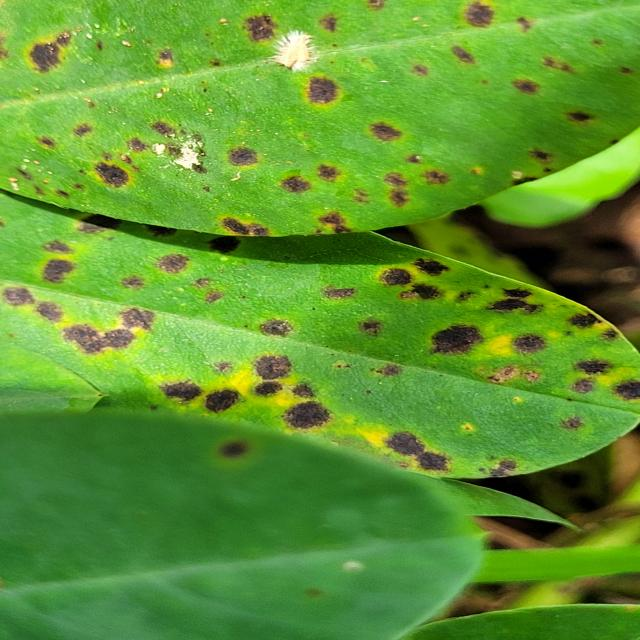Ground nut_tikka leaf spot: (6, 188, 640, 474), (0, 1, 640, 238)
